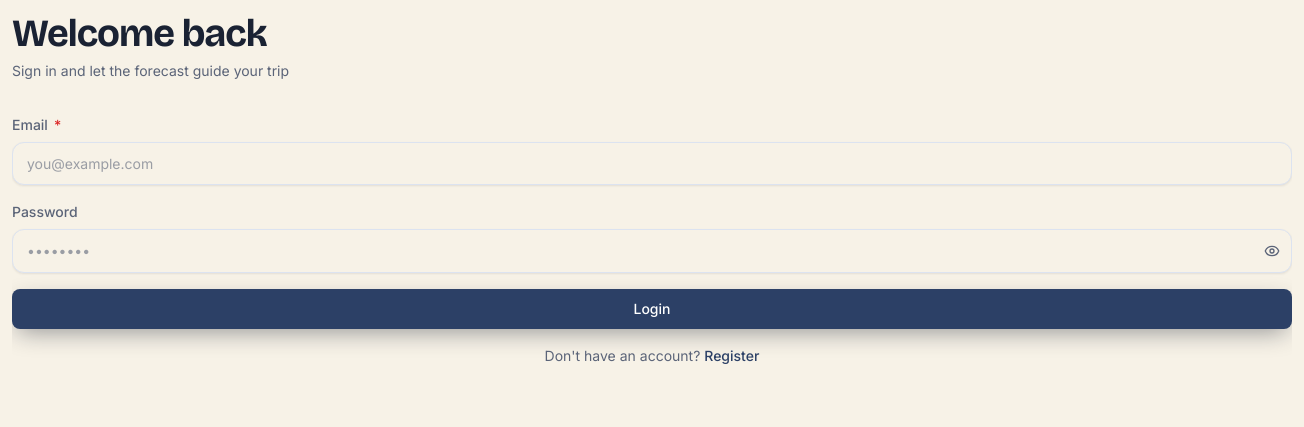
it: shows the server detail message for a 422
The width and height of the screenshot is (1304, 427).
Type "user@example.com" into the field labelled "Email *" at (652, 163), box [12, 142, 1292, 185]
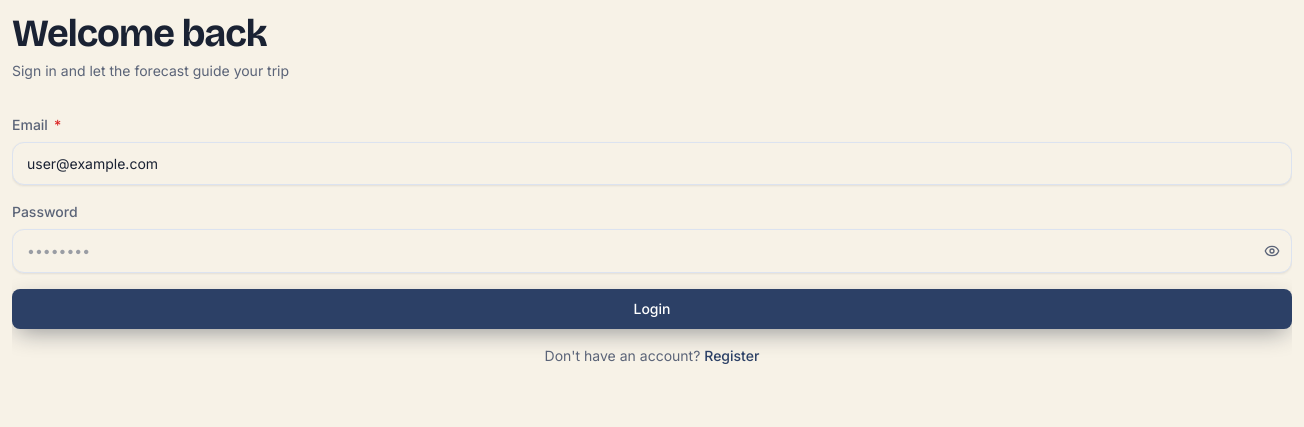
Type "wrongpass" into the password field labelled "Password" at (652, 251), box [12, 229, 1292, 273]
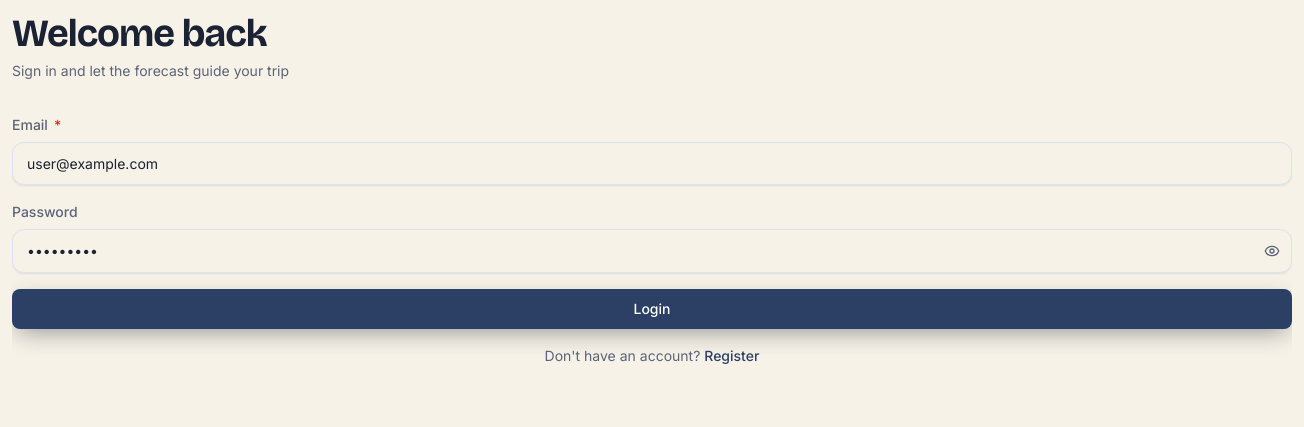
Click the button "Login" at (652, 309), box [12, 289, 1292, 329]
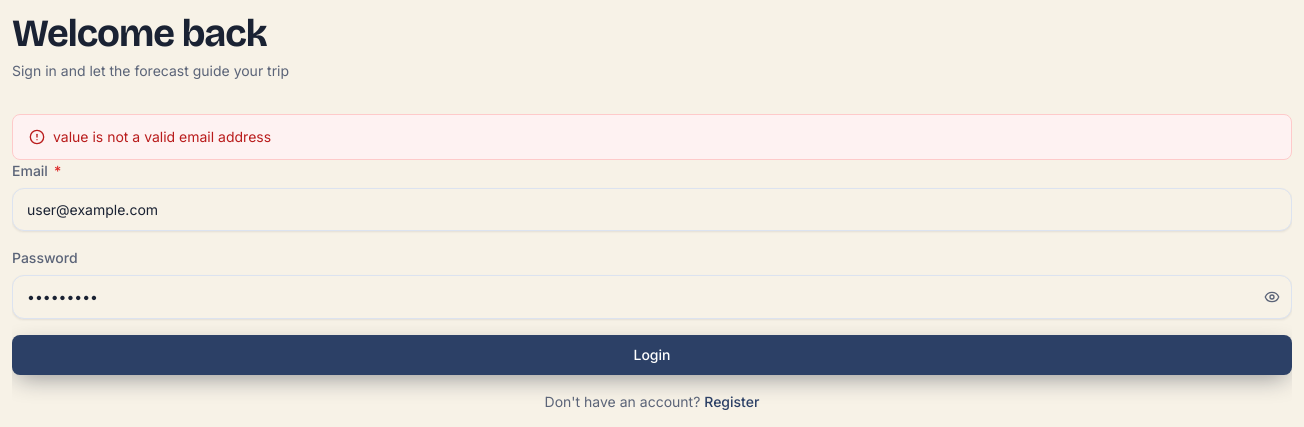
Now the text "value is not a valid email address" is shown, box [53, 127, 271, 147]
